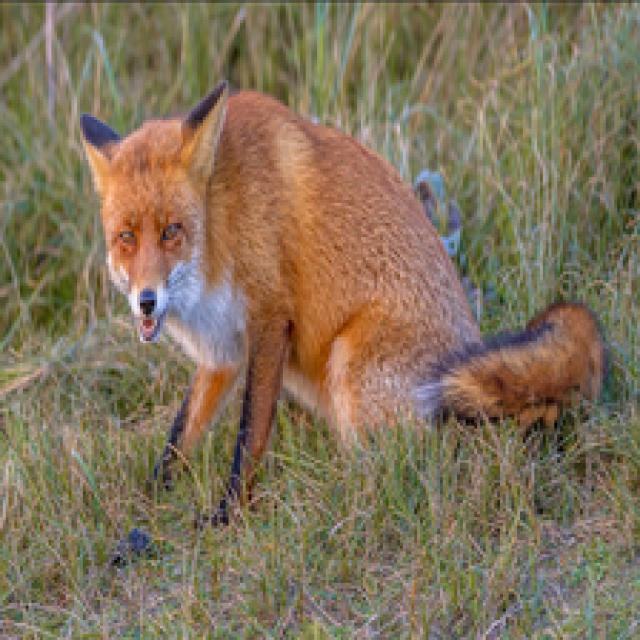fox: (66, 72, 616, 542)
